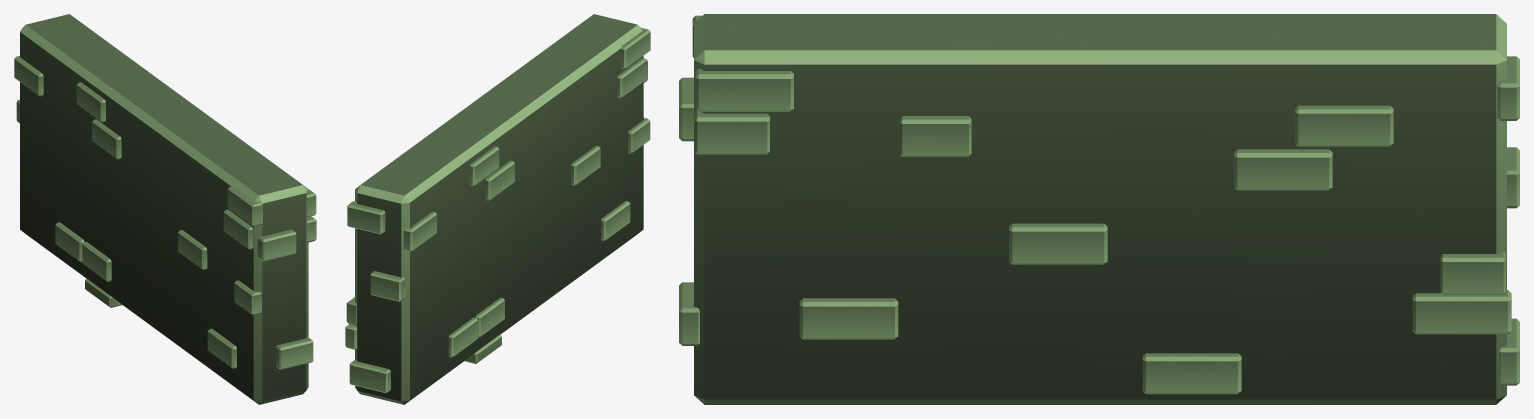
The model's file is Structure_Thin.fbx.
3 renders of one model, left to right at view 1: azimuth 30°, elevation 25°; view 2: azimuth 150°, elevation 25°; view 3: azimuth 270°, elevation 25°, orthographic. The views are drawn at different scales.
Visible parts, largest first — view 1: Structure_Thin; view 2: Structure_Thin; view 3: Structure_Thin.
Part boxes in pixels (left/top/right/bottom): Structure_Thin: left=14, top=14, right=316, bottom=404; Structure_Thin: left=345, top=14, right=650, bottom=404; Structure_Thin: left=679, top=14, right=1519, bottom=404.
Size of the model in its own units: 92.21 by 291 by 606.
